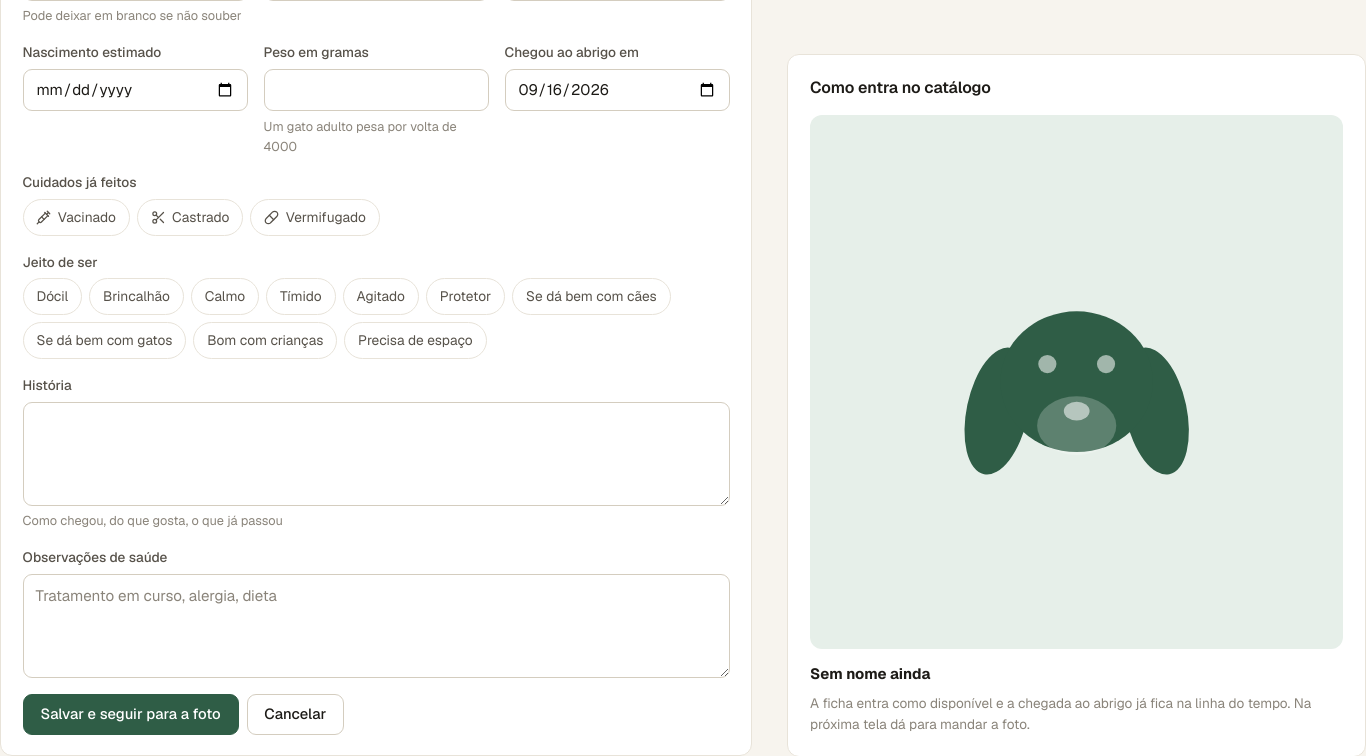
it: cadastro de animal › marca campos reprovados, mostra erro geral e falha de rede
(page scrolled)
Click the button "Salvar e seguir para a foto" at (131, 714), box [23,694,239,735]
(page scrolled)
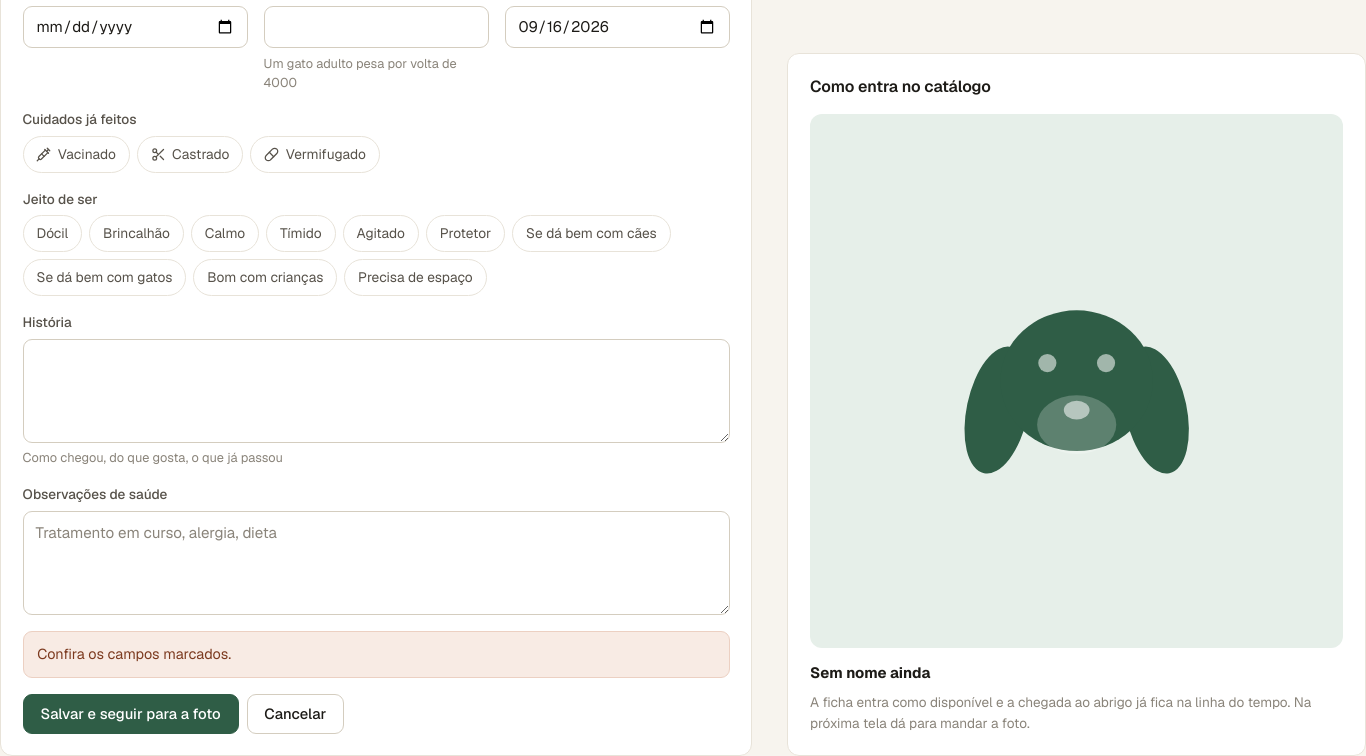
Now the text "Confira os campos marcados." is shown, box [23,631,730,678]
Click the button "Salvar e seguir para a foto" at (131, 714), box [23,694,239,734]
(page scrolled)
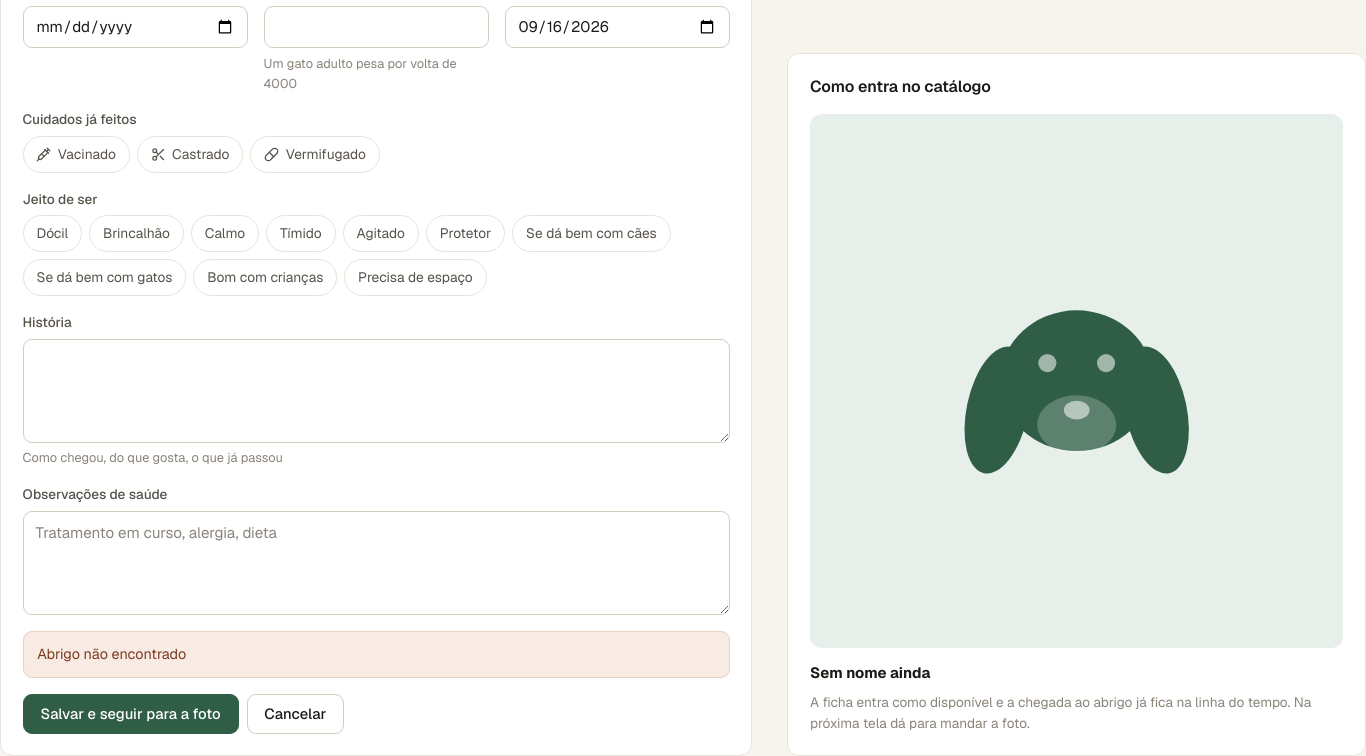
Now the text "Abrigo não encontrado" is shown, box [23,631,730,678]
Click the button "Salvar e seguir para a foto" at (131, 714), box [23,694,239,734]
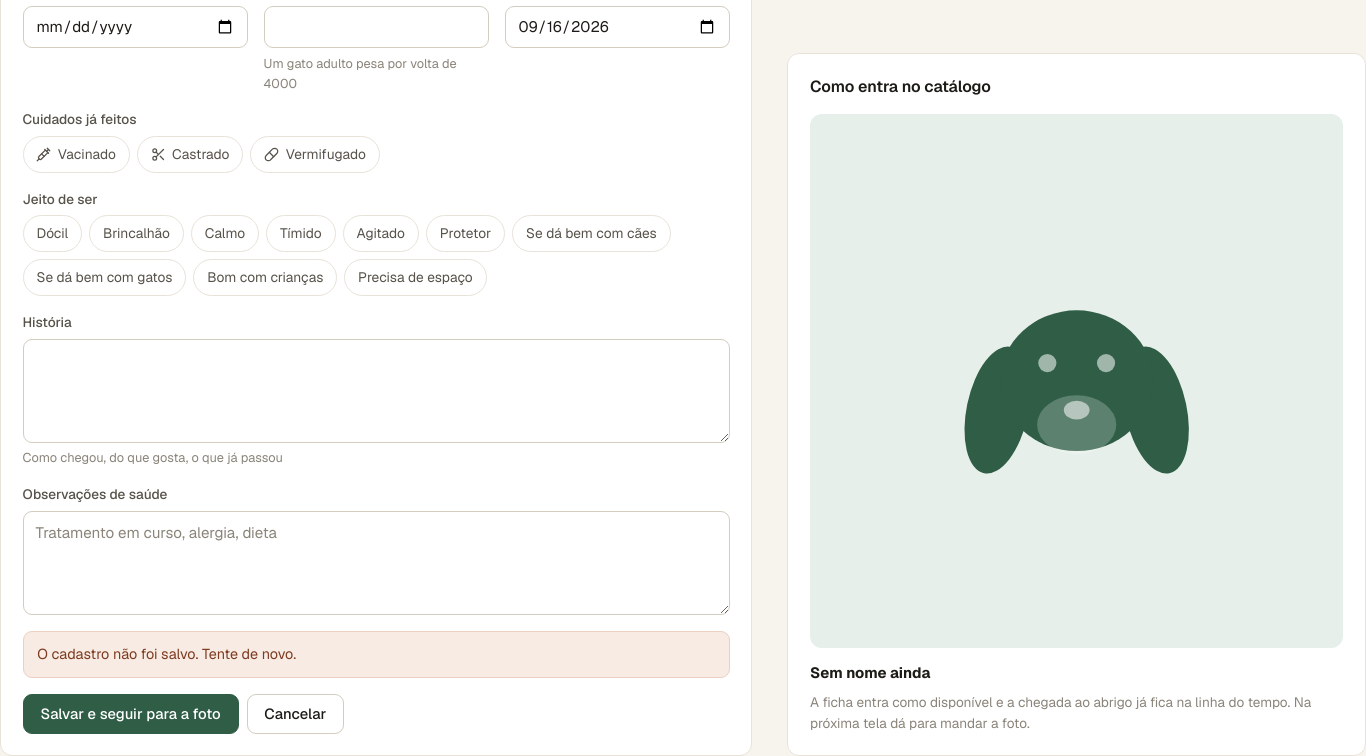
Now the text "O cadastro não foi salvo. Tente de novo." is shown, box [23,631,730,678]
